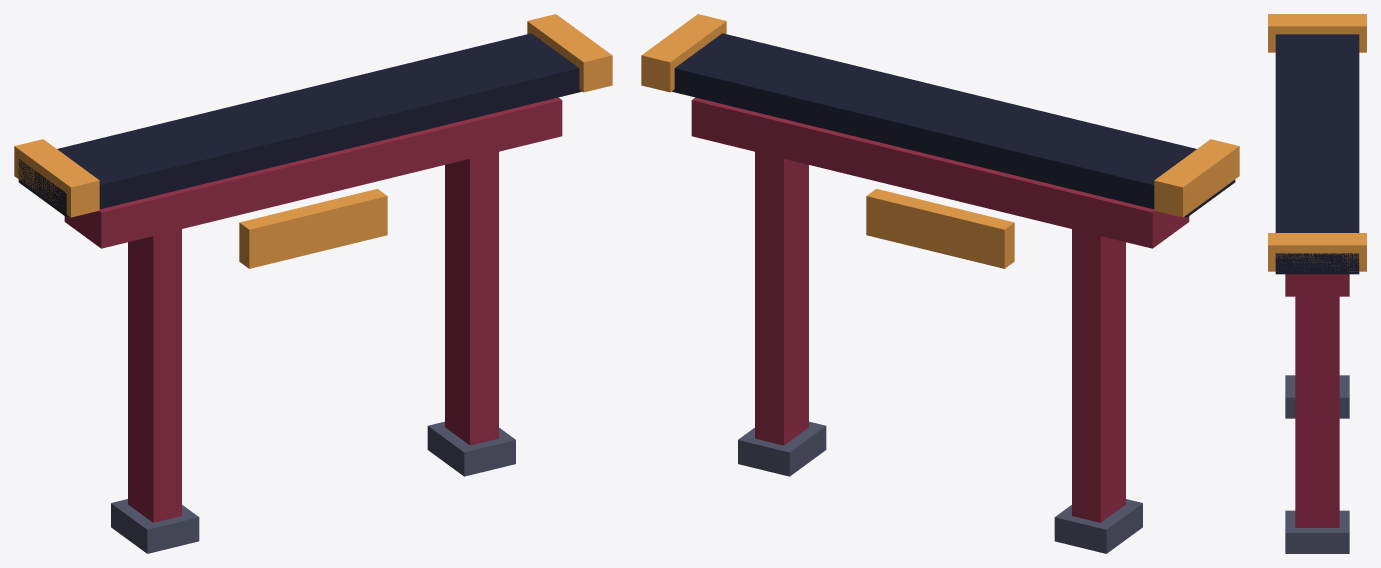
File: KGB_Dojo_CeremonialTorii_v16.obj
3 renders of one model, left to right at view 1: azimuth 30°, elevation 25°; view 2: azimuth 150°, elevation 25°; view 3: azimuth 270°, elevation 25°, orthographic. The views are drawn at different scales.
Visible parts, largest first — view 1: KGB_Dojo_CeremonialTorii_v16; view 2: KGB_Dojo_CeremonialTorii_v16; view 3: KGB_Dojo_CeremonialTorii_v16.
Part boxes in pixels (x1,y1,x2,y2): KGB_Dojo_CeremonialTorii_v16: (14,14,612,553); KGB_Dojo_CeremonialTorii_v16: (641,14,1239,553); KGB_Dojo_CeremonialTorii_v16: (1268,14,1366,553).
Bounding box in the file's own units: 9.4 × 6.55 × 1.7.
